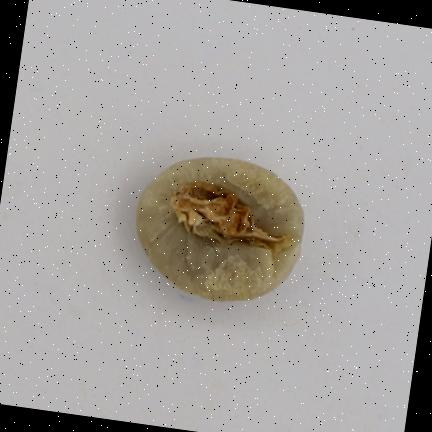husk: (136, 157, 304, 301)
